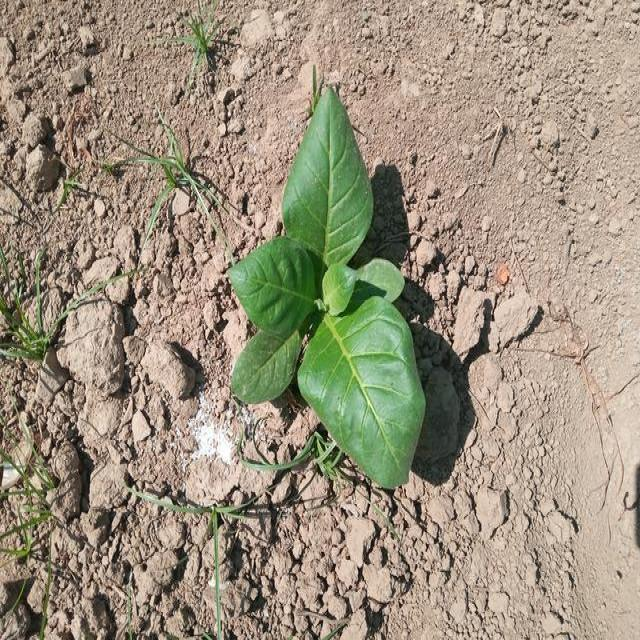crop: (228, 93, 419, 477)
